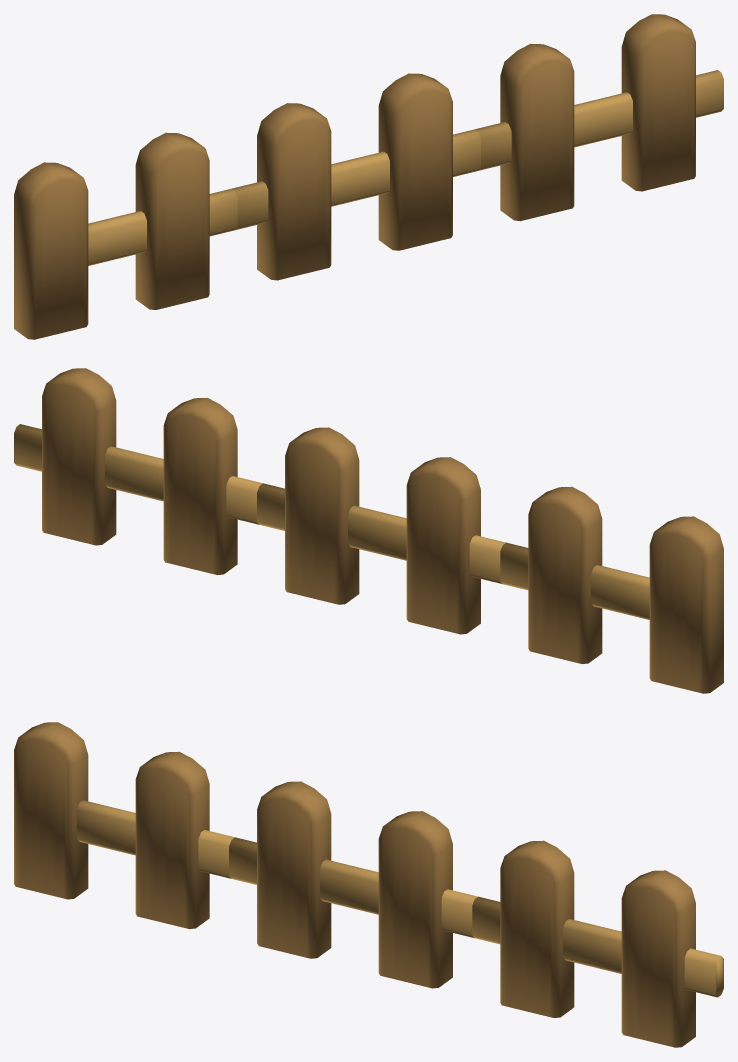
The model's file is lowbar-village-32.glb.
3 views of the same model, one above another, from view 1: azimuth 30°, elevation 25°; view 2: azimuth 150°, elevation 25°; view 3: azimuth 330°, elevation 25° (orthographic).
Visible parts, largest first — view 1: piece; view 2: piece; view 3: piece.
Boxes of the visible parts, x1,y1,x2,y2 form: piece: [14, 14, 723, 339]; piece: [14, 368, 723, 693]; piece: [14, 722, 723, 1047].
Size of the model in its own units: 5.15 by 1.12 by 0.2372.
